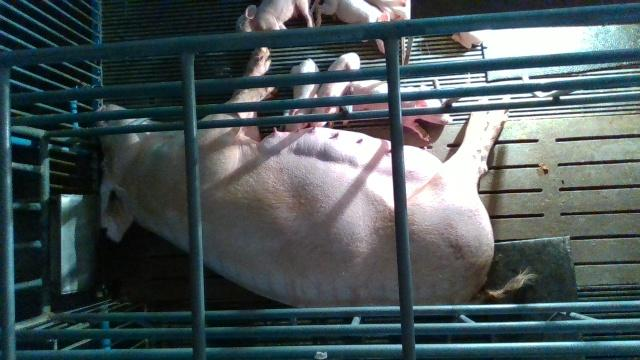piglet: (351, 79, 453, 141), (317, 0, 389, 53), (312, 52, 361, 126), (283, 58, 321, 132), (235, 0, 314, 31)
sow-sleep-lactate: (99, 48, 539, 307)
